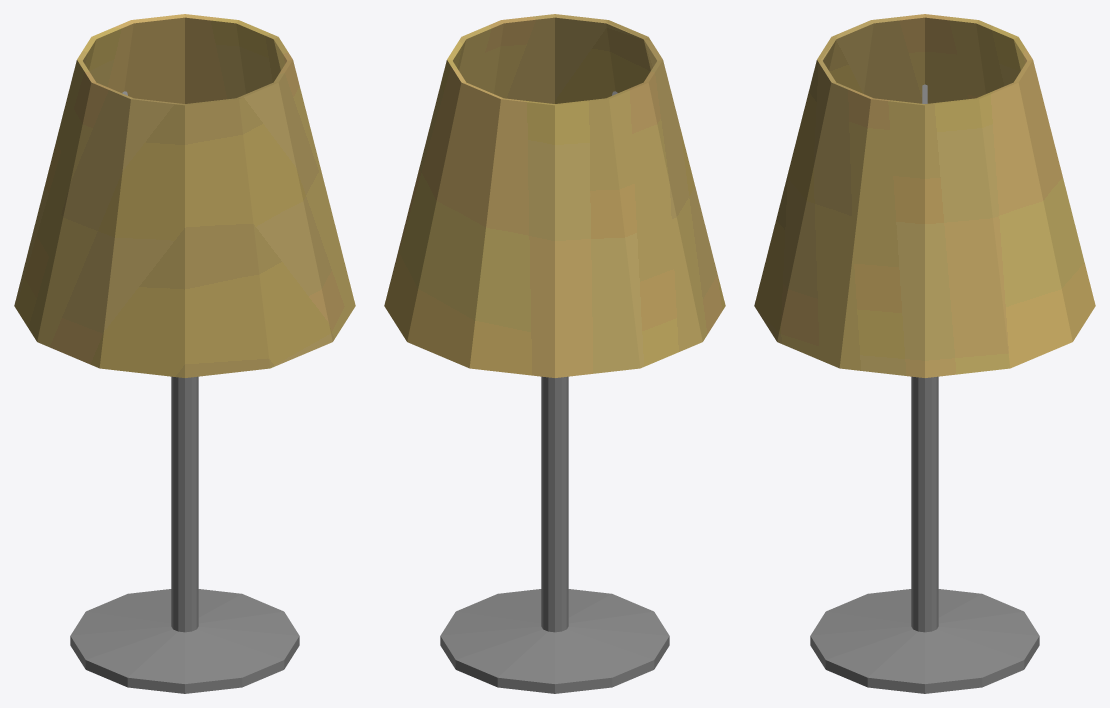
File: w9_cand_lamp_google.glb
3 renders of one model, left to right at view 1: azimuth 30°, elevation 25°; view 2: azimuth 150°, elevation 25°; view 3: azimuth 270°, elevation 25°, orthographic.
Visible parts, largest first — view 1: Lamp; view 2: Lamp; view 3: Lamp.
Boxes of the visible parts, <box> form: Lamp: <box>14,14,355,693</box>; Lamp: <box>384,14,725,693</box>; Lamp: <box>754,14,1095,693</box>.
Bounding box in the file's own units: 93.47 × 177 × 93.47.
1 material, 1 textured.
